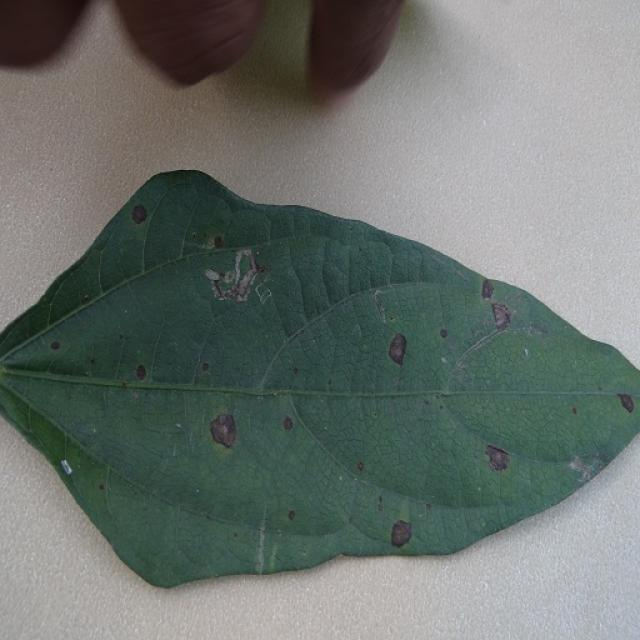Anthracnose: (204, 247, 269, 302), (207, 409, 239, 450), (386, 328, 414, 370), (484, 443, 511, 473), (194, 224, 227, 248), (389, 518, 414, 548), (490, 301, 512, 329), (130, 203, 149, 225), (618, 393, 636, 413), (527, 322, 548, 339), (481, 279, 494, 299), (60, 460, 73, 475), (136, 364, 147, 381), (283, 416, 293, 432), (50, 341, 61, 350), (201, 362, 210, 372), (439, 328, 448, 338), (288, 510, 296, 521), (356, 461, 364, 472), (572, 406, 578, 415), (119, 334, 126, 341), (327, 378, 333, 386), (377, 504, 383, 512), (292, 367, 298, 374)
Blackgram: (0, 172, 639, 585)
